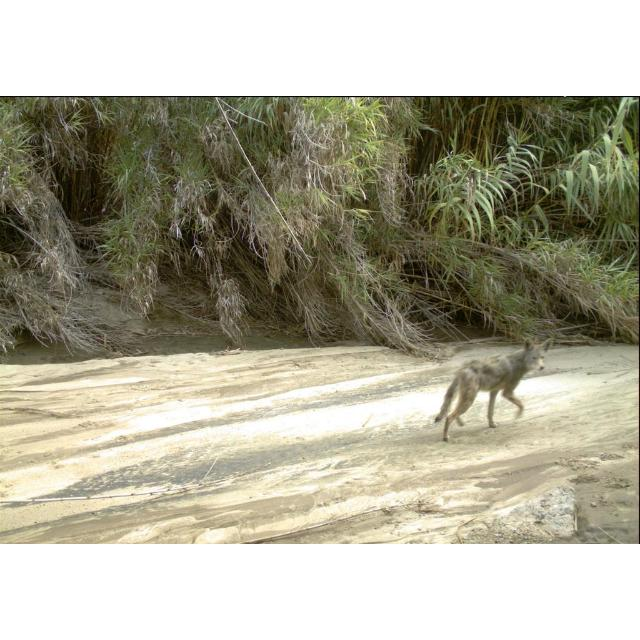animals: (432, 337, 558, 443)
